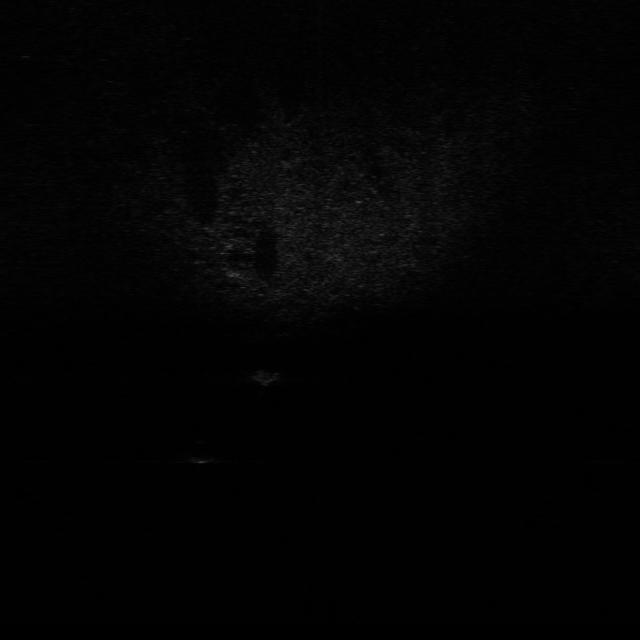ball: (182, 437, 220, 467)
cube: (250, 365, 290, 387)
